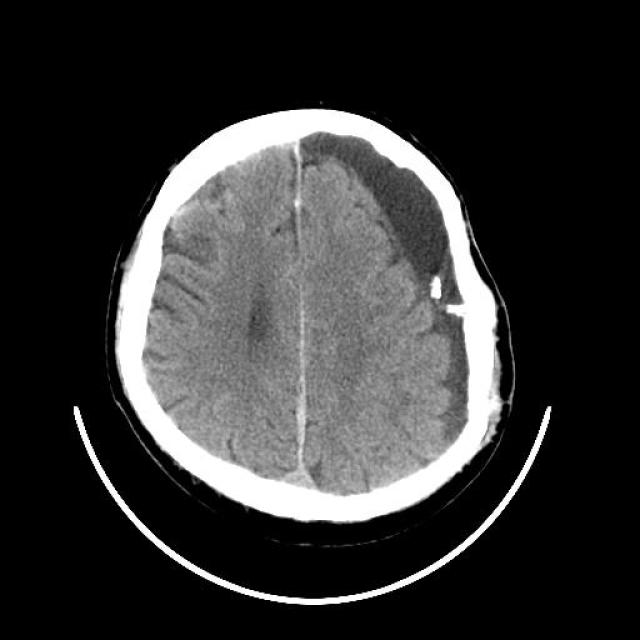Subdural: (274, 346, 338, 496)
